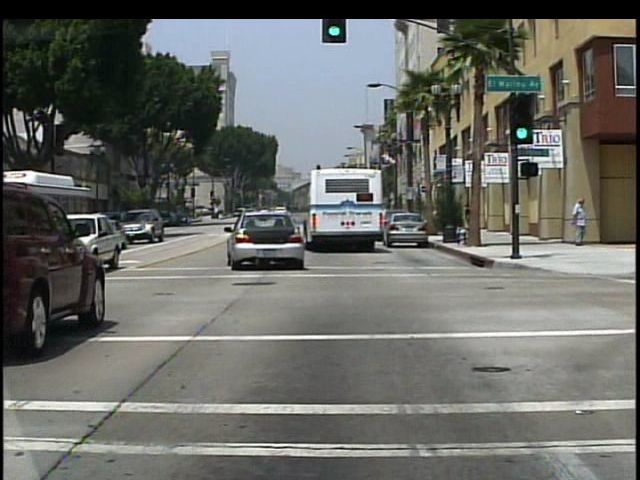person: (570, 198, 591, 247), (462, 198, 472, 238)
